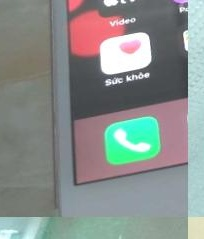scratch: (77, 217, 140, 239)
